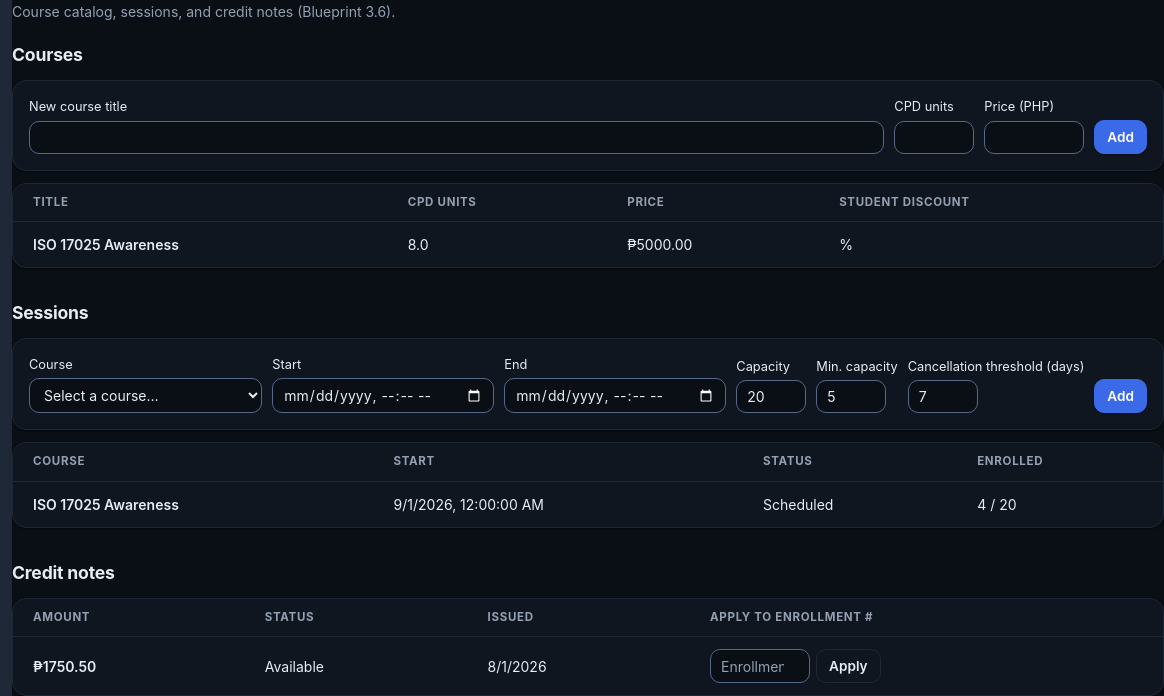
Test: applying a credit note › surfaces the server's refusal
The width and height of the screenshot is (1164, 696).
(page scrolled)
Expected: the text "₱1750.50" is shown, [13,637,245,695]
Type "42" into the number field with placeholder "Enrollment ID" at [760, 666], box [710,649,810,683]
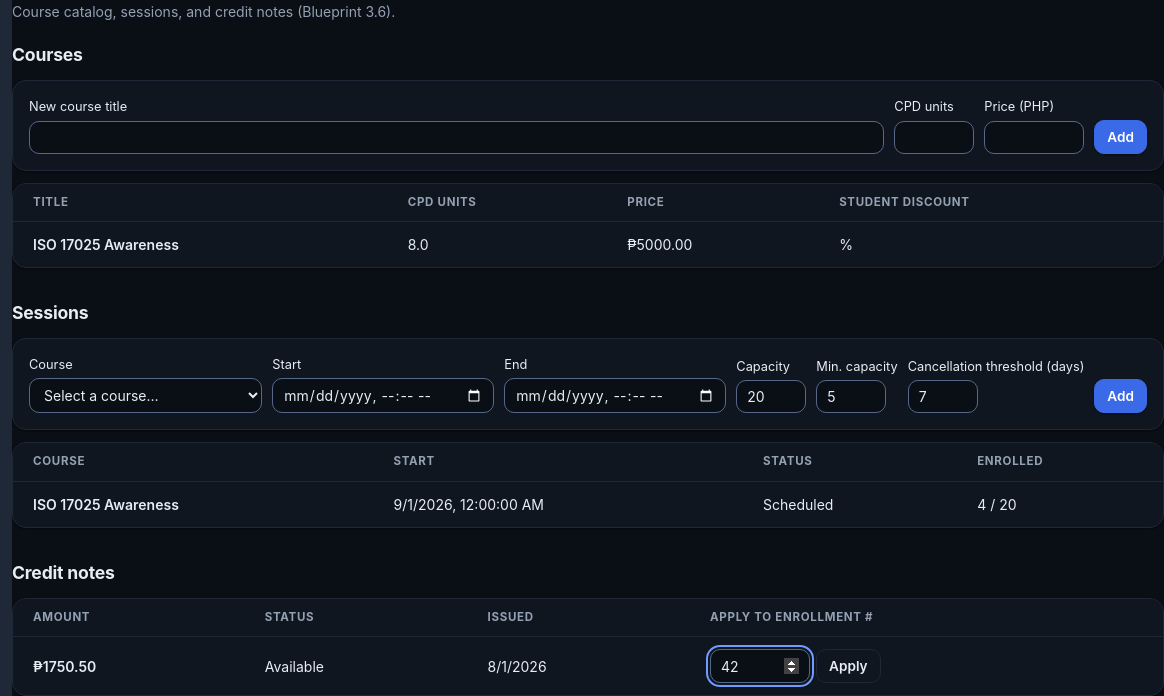
Click the button "Apply" at [848, 666], box [816,649,880,683]
(page scrolled)
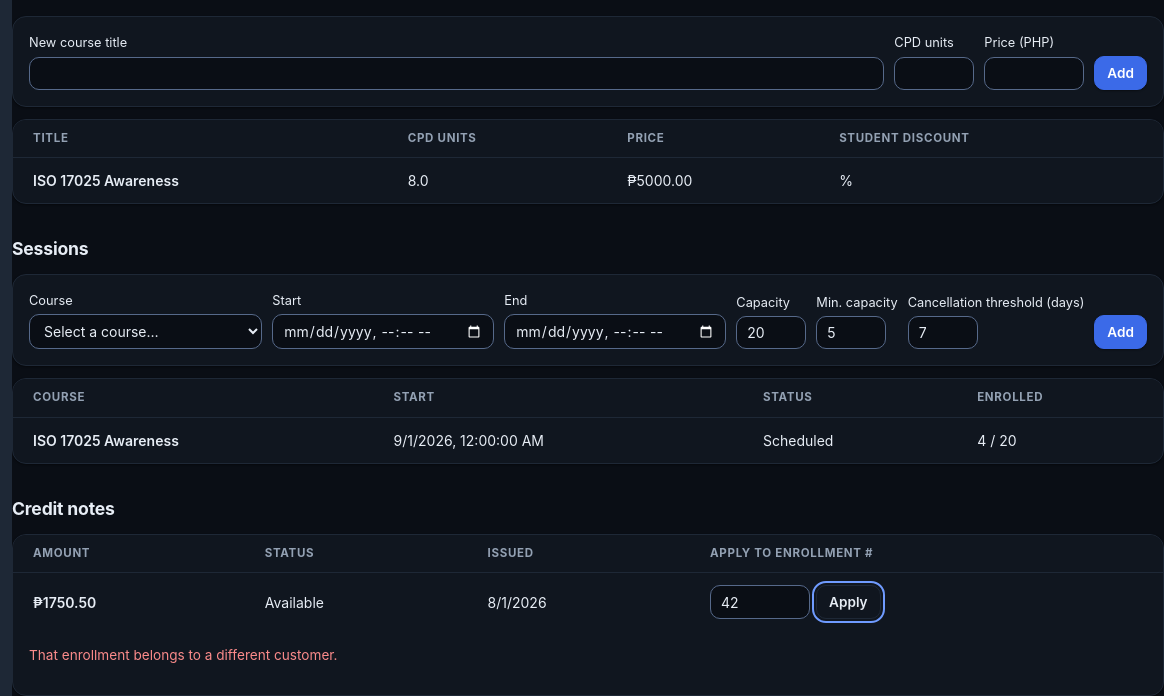
Result: the text "That enrollment belongs to a different customer." is shown at [29,647,338,663]
